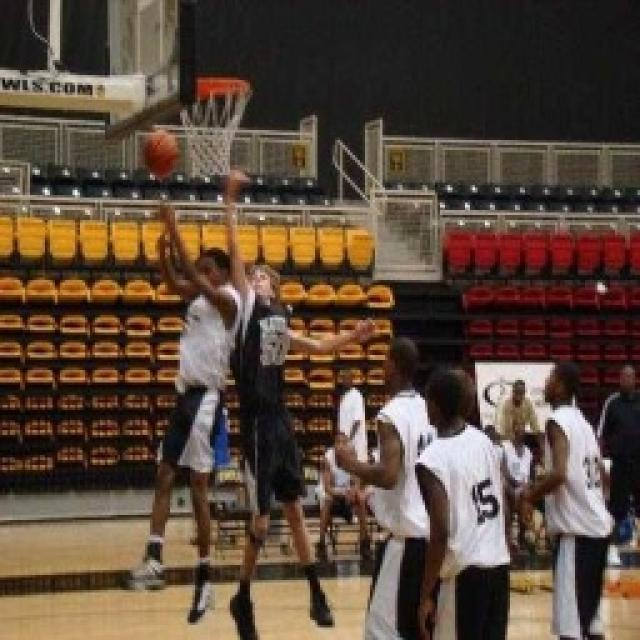basketball: (137, 124, 187, 184)
